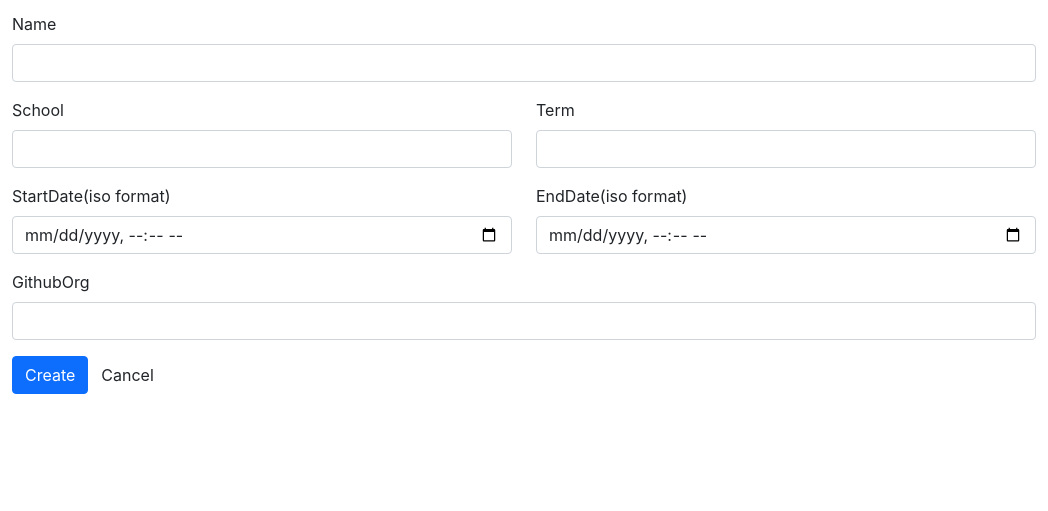
Test: CoursesForm tests › Correct Error messsages on missing input
Click the button with test id "CoursesForm-submit" at (50, 375), box [12, 356, 88, 394]
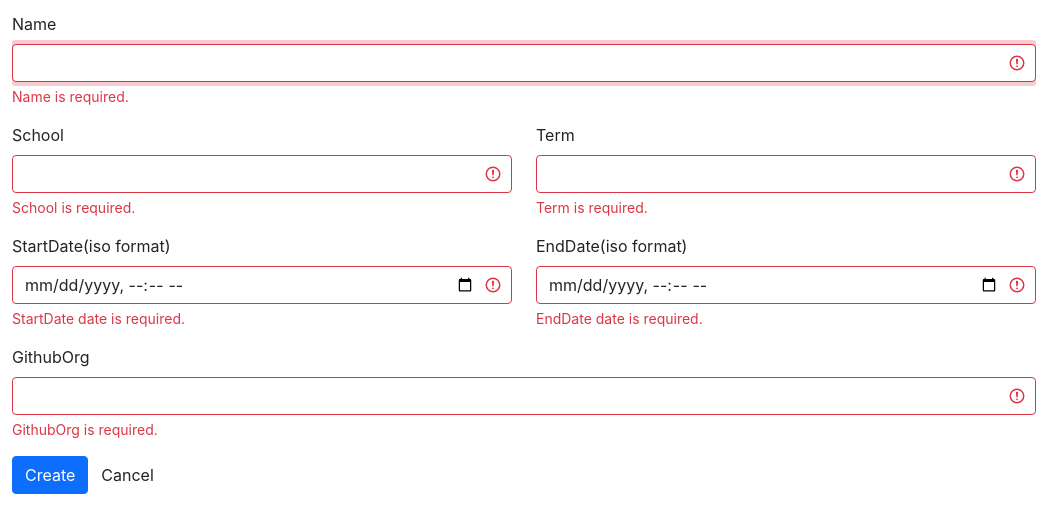
Now the text "Name is required." is shown, box [12, 88, 129, 105]
Now the text "School is required." is shown, box [12, 199, 135, 216]
Now the text "Term is required." is shown, box [536, 199, 648, 216]
